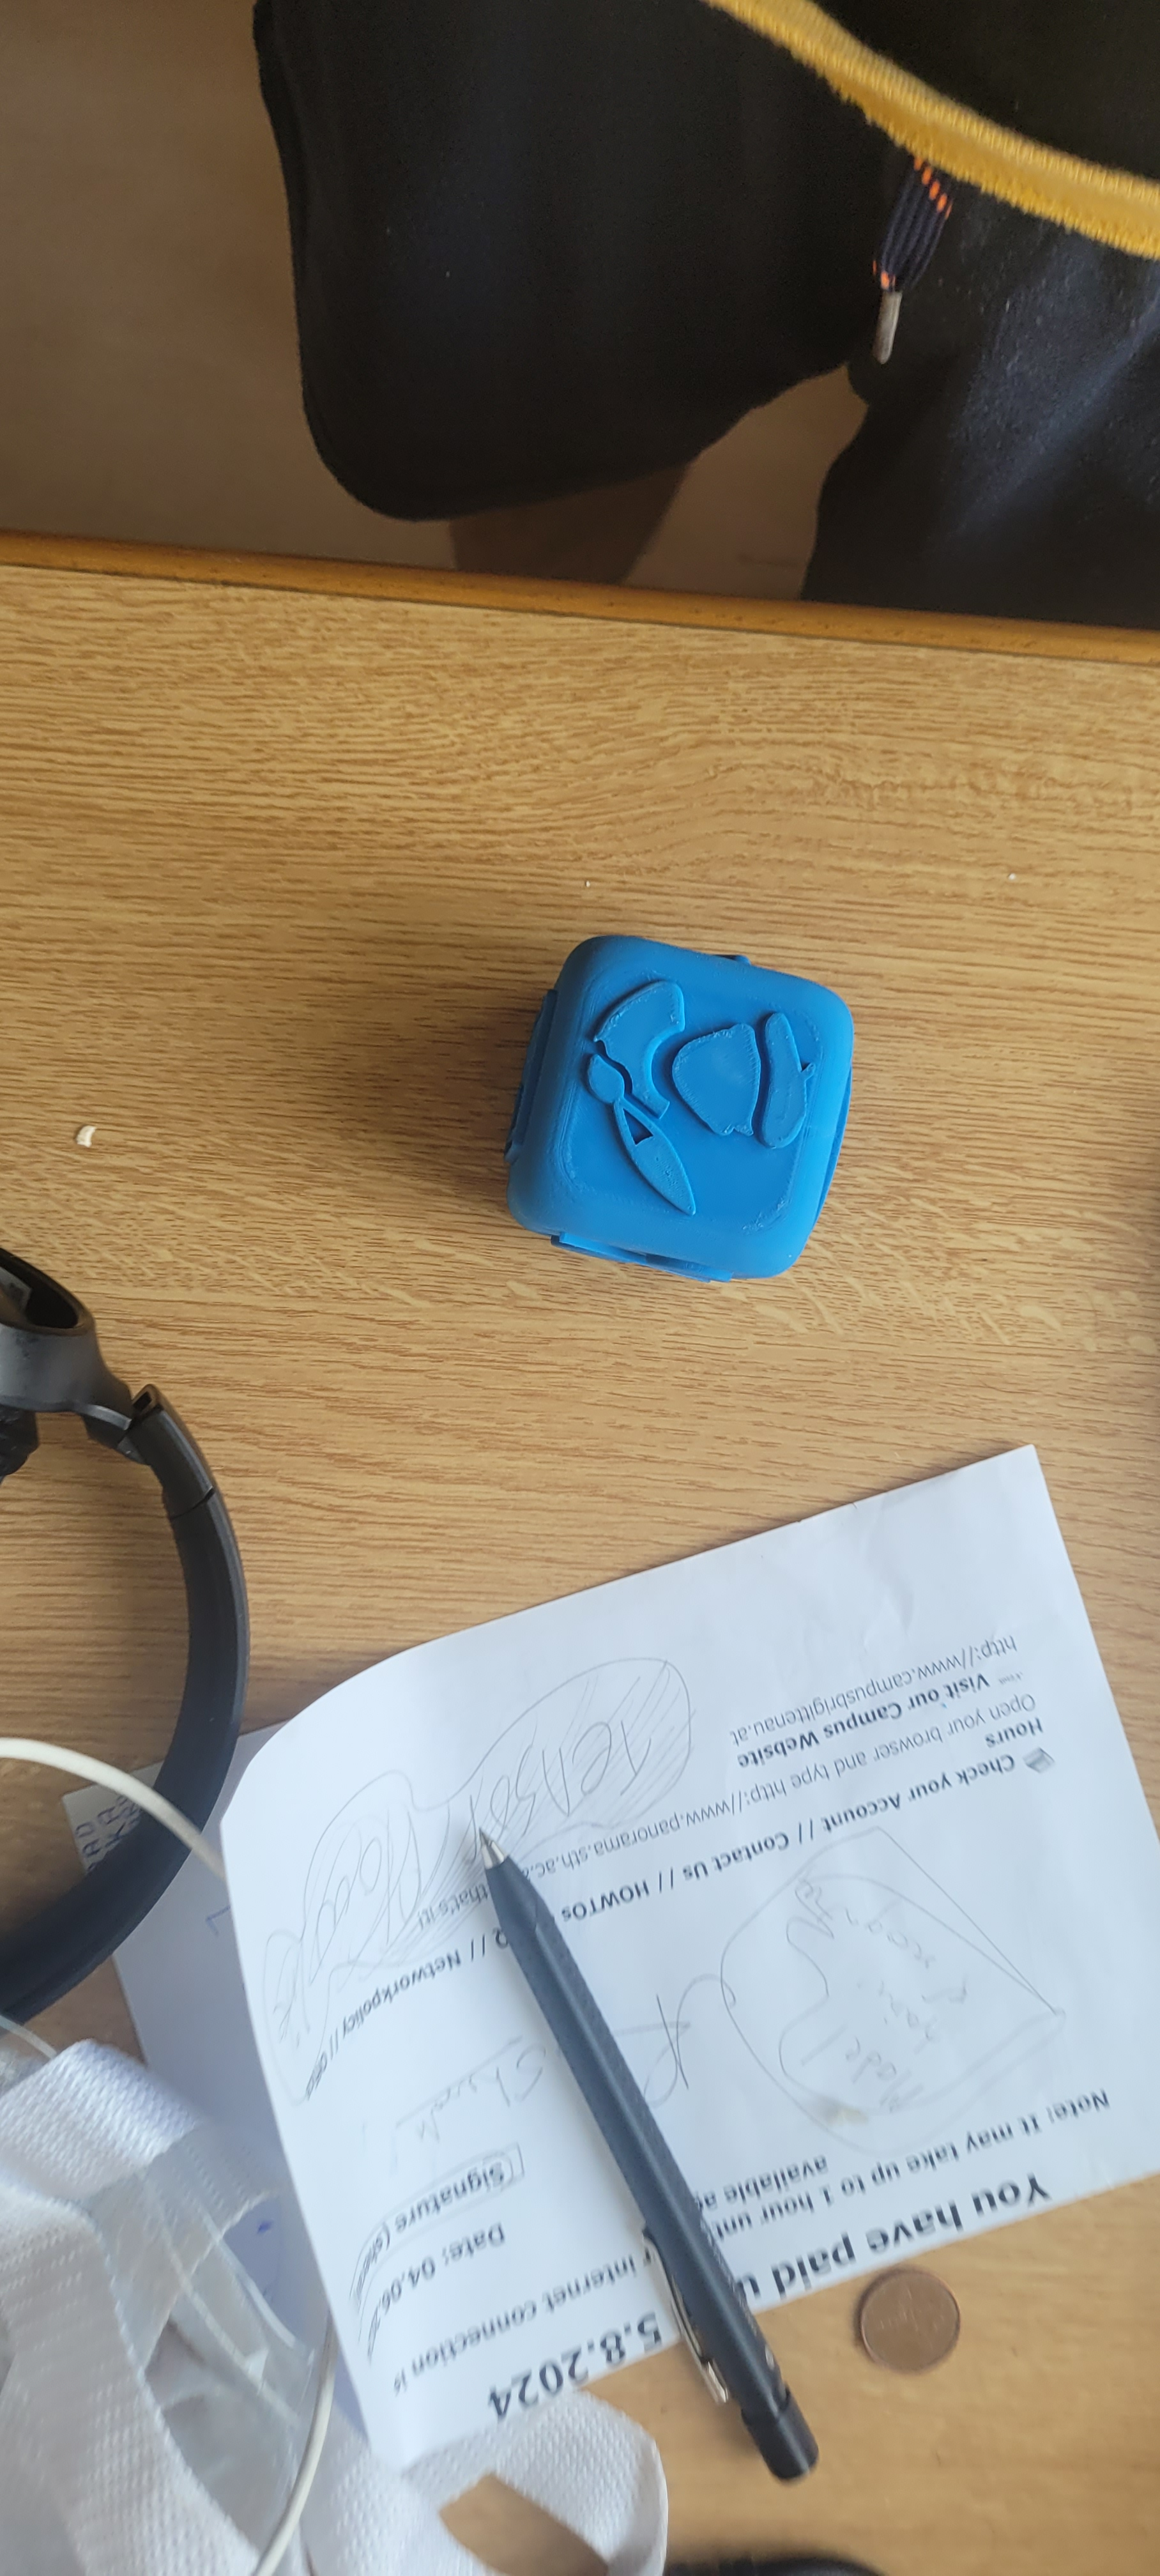Artist_Info: (555, 907, 815, 1265)
